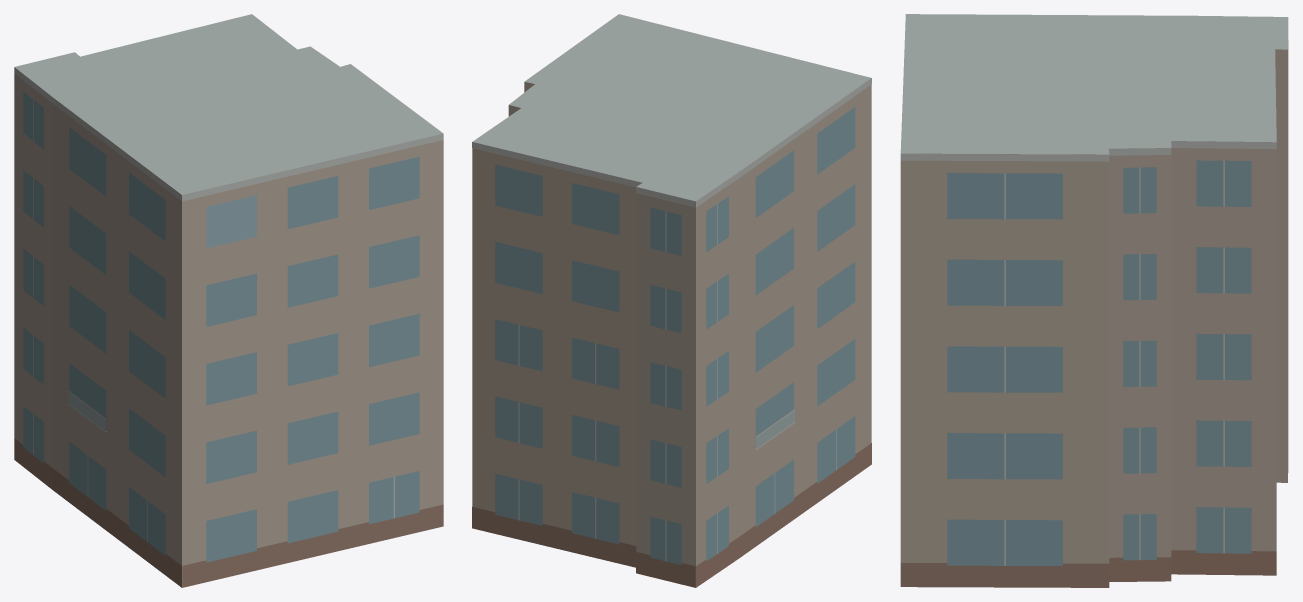
Rendered from survey-upis-32881123.glb.
The picture shows the model from 3 angles, left to right: view 1: azimuth 30°, elevation 25°; view 2: azimuth 150°, elevation 25°; view 3: azimuth 270°, elevation 25°; orthographic projection. The views are drawn at different scales.
Parts seen in each view (by area): view 1: survey-upis-32881123.tmp; view 2: survey-upis-32881123.tmp; view 3: survey-upis-32881123.tmp.
Part boxes in pixels (left/top/right/bottom): survey-upis-32881123.tmp: left=14, top=14, right=443, bottom=587; survey-upis-32881123.tmp: left=472, top=14, right=871, bottom=587; survey-upis-32881123.tmp: left=900, top=14, right=1288, bottom=587.
Bounding box in the file's own units: 10.51 × 15.1 × 12.25.
